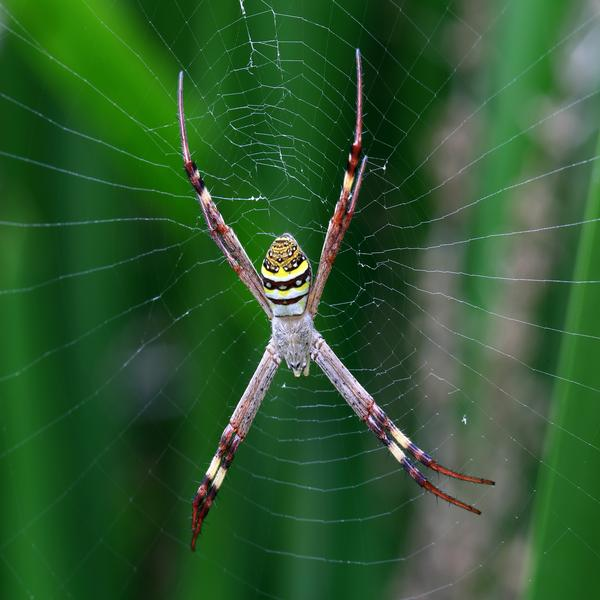St Andrew's Cross Spider: (177, 55, 484, 538)
